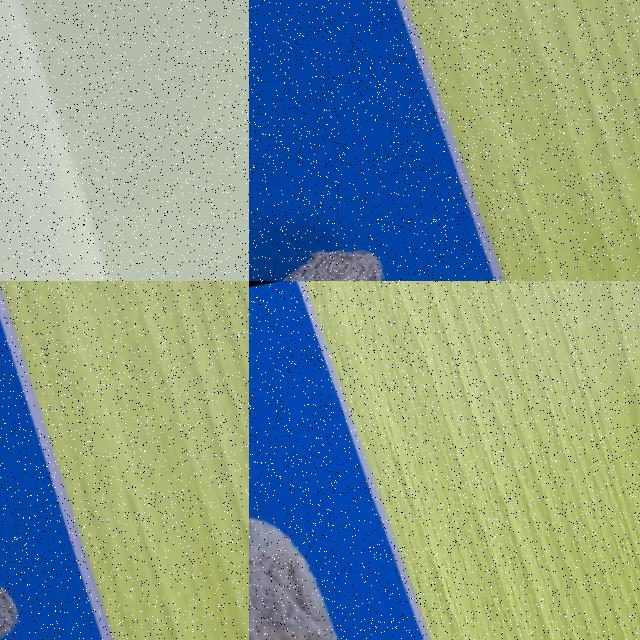Agglomerated_cocoabeans: (249, 427, 440, 639), (249, 175, 496, 280), (0, 401, 85, 639)
